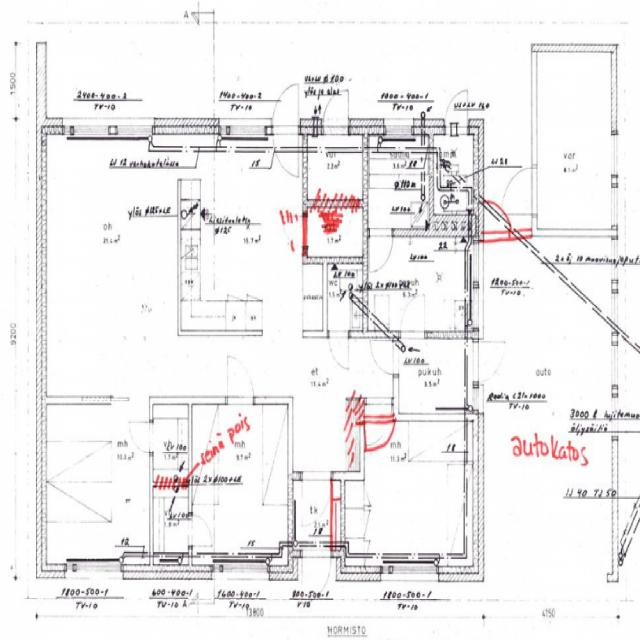door: (367, 428, 413, 499), (302, 471, 332, 525), (502, 168, 537, 214), (301, 550, 331, 603), (273, 78, 299, 136), (273, 119, 299, 176), (323, 79, 349, 136), (473, 341, 510, 381), (227, 356, 254, 405), (486, 188, 512, 237), (446, 83, 468, 136), (401, 294, 425, 338), (370, 228, 392, 272), (371, 340, 398, 375), (188, 514, 213, 546), (328, 332, 349, 370), (130, 423, 154, 452)
